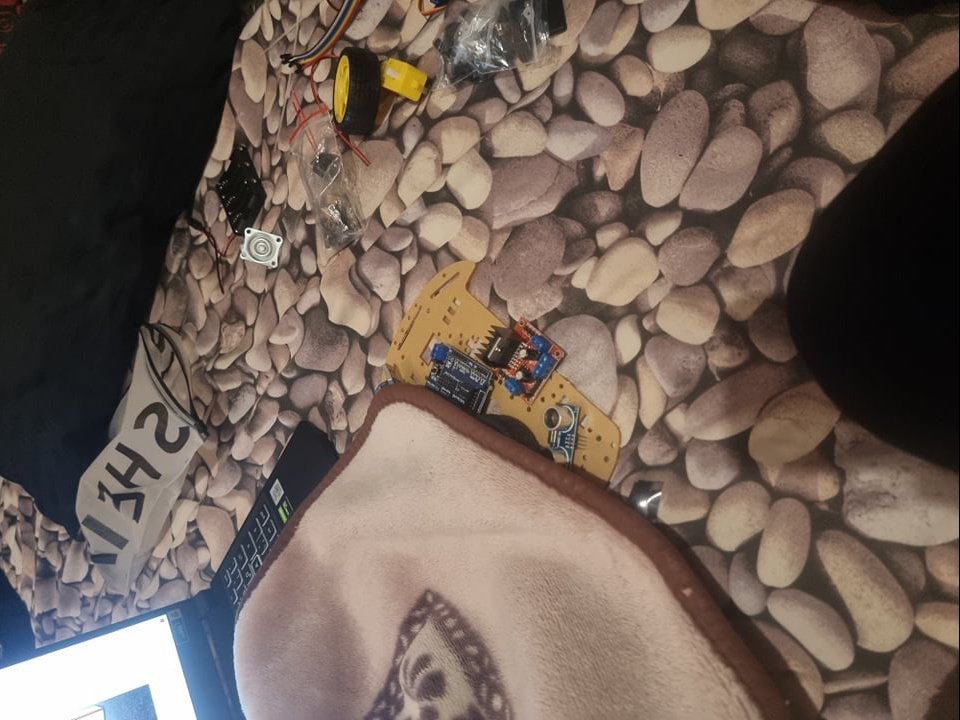5V EXPANSION: (424, 342, 494, 416)
BATTERY BOX: (212, 147, 267, 233)
MOTOR: (478, 316, 568, 401)
SENSOR: (540, 403, 575, 470)
